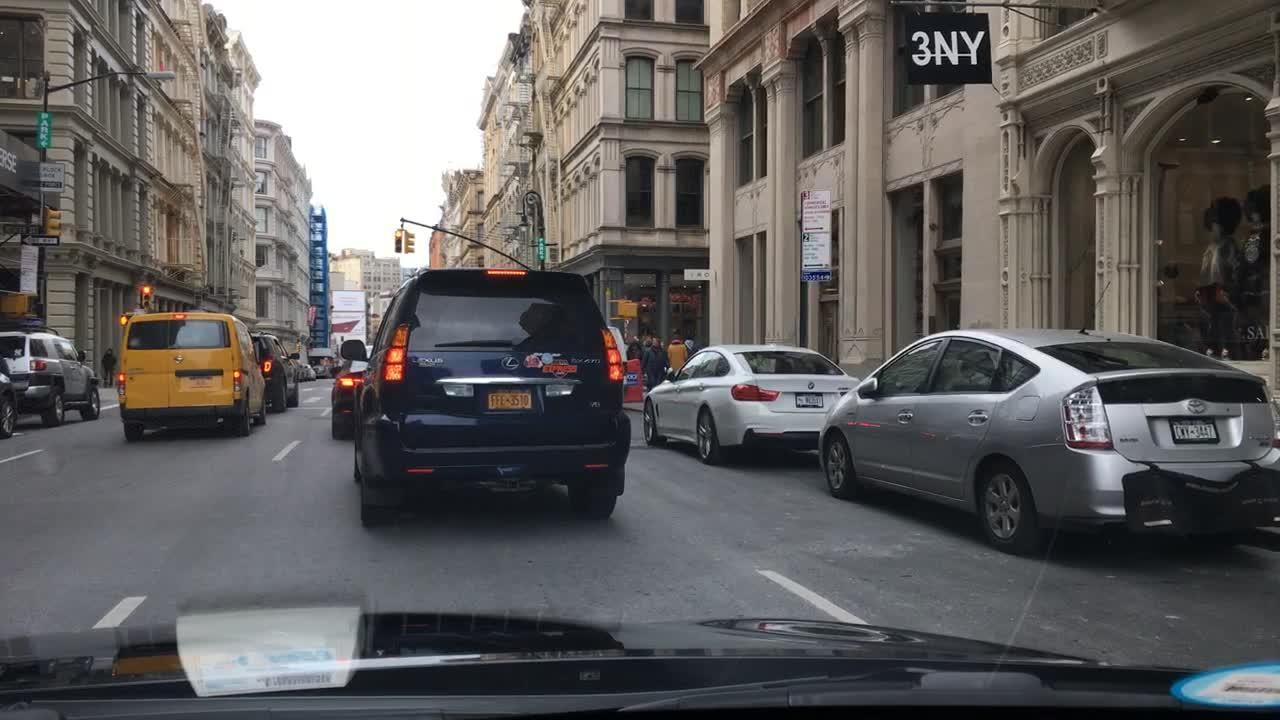Toyota: (1180, 393, 1216, 418)
bmw: (174, 353, 186, 365), (807, 381, 818, 392)
lexus: (494, 351, 524, 373)
